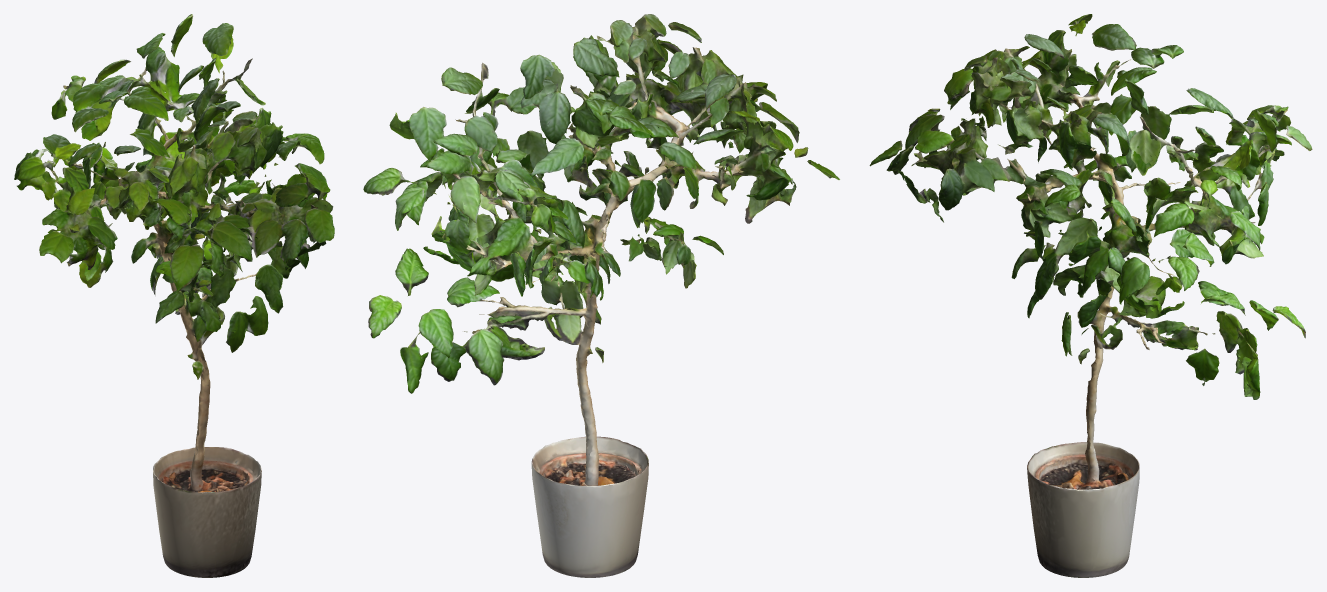
The model's file is rosa_chinensis.glb.
The picture shows the model from 3 angles, left to right: view 1: azimuth 30°, elevation 25°; view 2: azimuth 150°, elevation 25°; view 3: azimuth 270°, elevation 25°; orthographic projection. The views are drawn at different scales.
Parts seen in each view (by area): view 1: Object_2, Object_3; view 2: Object_2, Object_3; view 3: Object_2, Object_3.
Boxes of the visible parts, x1=… form: Object_2: x1=14, y1=14, x2=334, y2=577; Object_3: x1=15, y1=14, x2=334, y2=577; Object_2: x1=363, y1=14, x2=838, y2=577; Object_3: x1=365, y1=19, x2=839, y2=493; Object_2: x1=869, y1=14, x2=1312, y2=577; Object_3: x1=870, y1=14, x2=1311, y2=573.
Bounding box in the file's own units: 10.37 × 13.16 × 10.63.
Materials: 1 (1 with a texture image).
